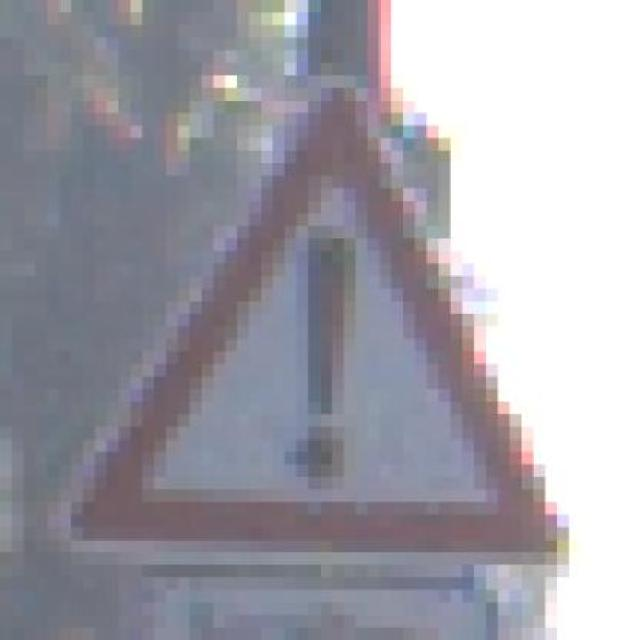Attention Please-: (47, 50, 628, 578)
